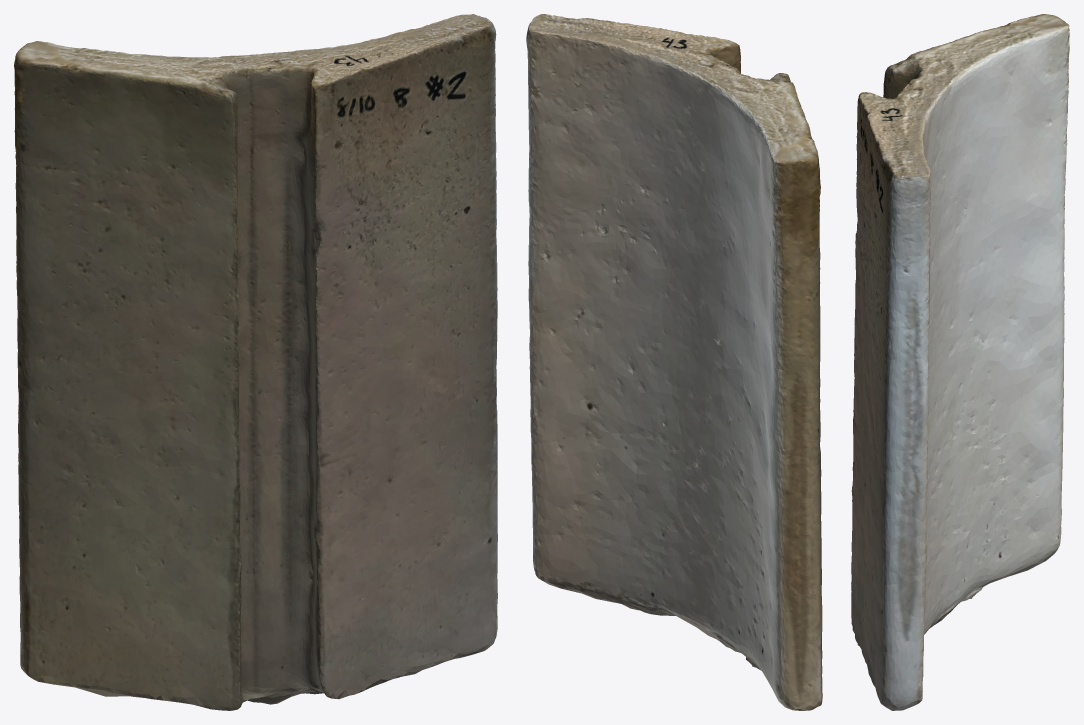
File: Pixel 43.glb
The picture shows the model from 3 angles, left to right: view 1: azimuth 30°, elevation 25°; view 2: azimuth 150°, elevation 25°; view 3: azimuth 270°, elevation 25°; orthographic projection. The views are drawn at different scales.
Bounding box in the file's own units: 0.1721 × 0.2643 × 0.0947.
Materials: 1 (1 with a texture image).
